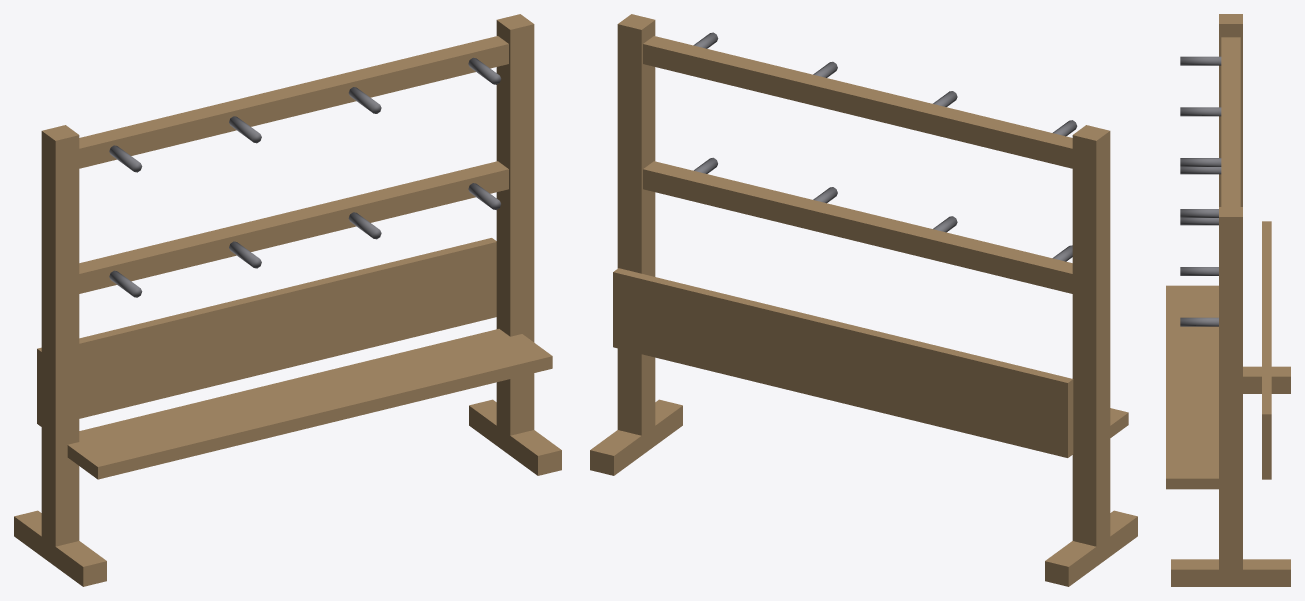
File: ratelier.glb
3 views of the same model, side by side, from view 1: azimuth 30°, elevation 25°; view 2: azimuth 150°, elevation 25°; view 3: azimuth 270°, elevation 25° (orthographic). The views are drawn at different scales.
Parts seen in each view (by area): view 1: ratelier_bois, ratelier_chevilles; view 2: ratelier_bois, ratelier_chevilles; view 3: ratelier_bois, ratelier_chevilles.
Part boxes in pixels (x1,y1,x2,y2): ratelier_bois: (14, 14, 561, 586); ratelier_chevilles: (109, 57, 501, 297); ratelier_bois: (590, 14, 1137, 586); ratelier_chevilles: (693, 32, 1077, 261); ratelier_bois: (1166, 14, 1290, 586); ratelier_chevilles: (1180, 56, 1221, 326).
Size of the model in its own units: 2 by 1.7 by 0.52.
